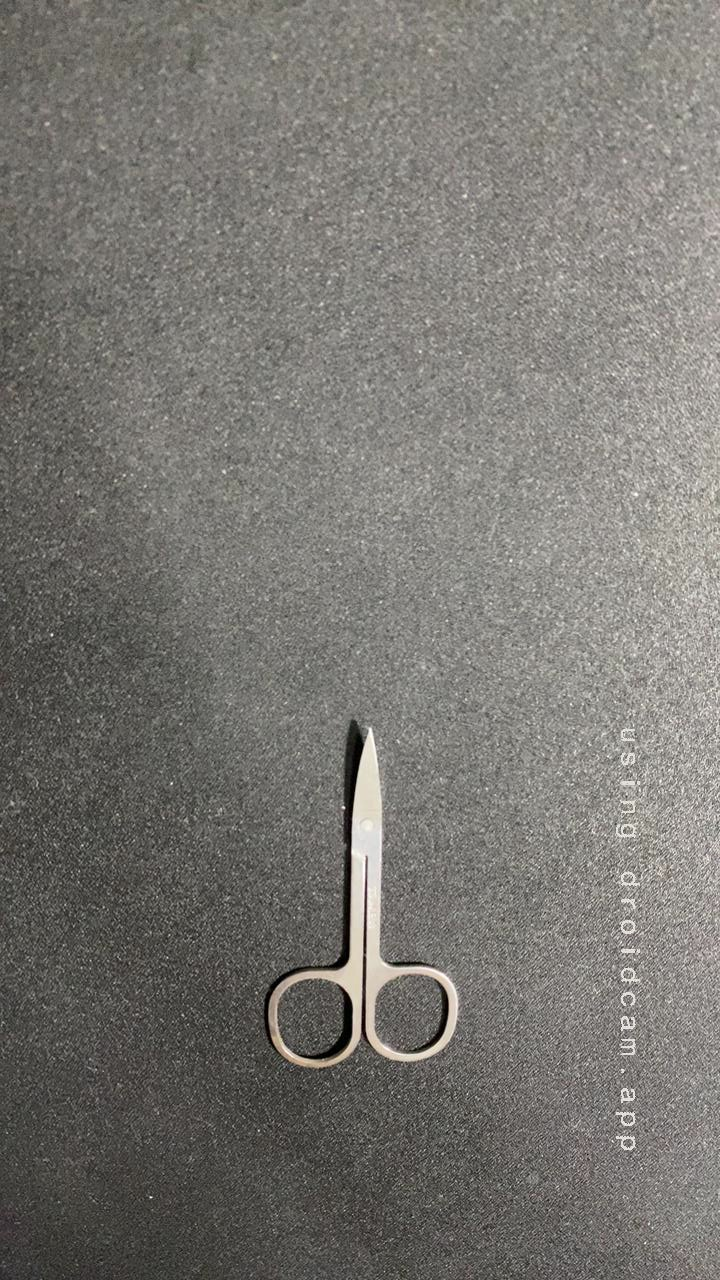scissor: (235, 710, 485, 1073)
